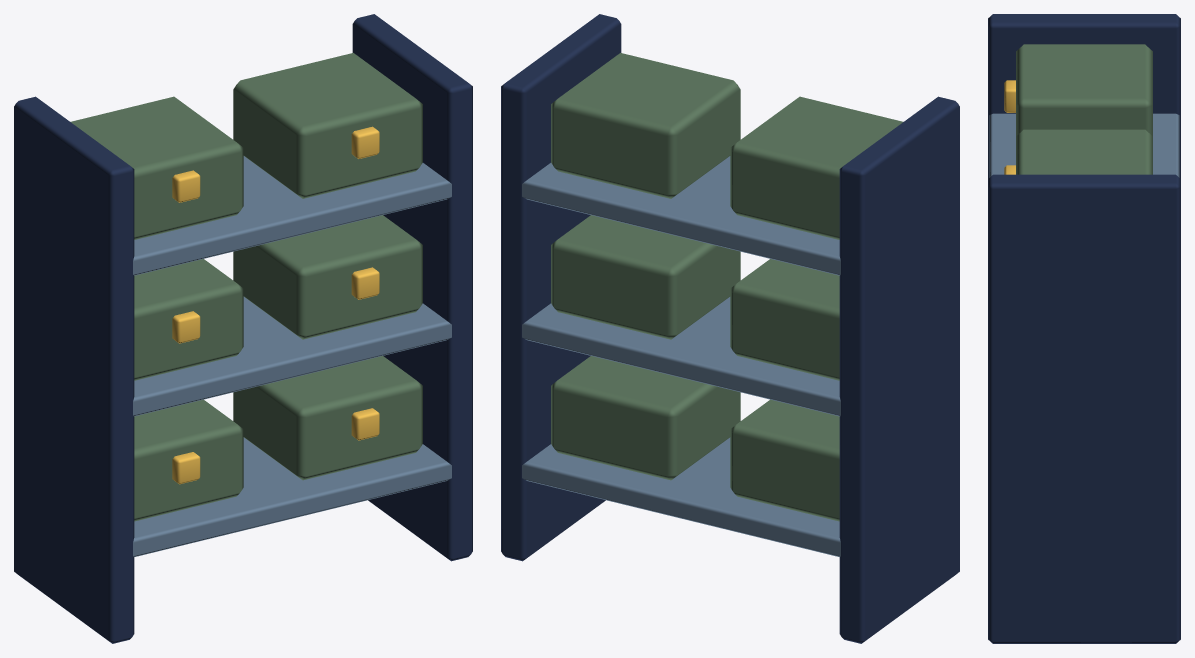
The model's file is optical_rack.glb.
3 views of the same model, side by side, from view 1: azimuth 30°, elevation 25°; view 2: azimuth 150°, elevation 25°; view 3: azimuth 270°, elevation 25° (orthographic). The views are drawn at different scales.
Parts seen in each view (by area): view 1: optical_rack; view 2: optical_rack; view 3: optical_rack.
Boxes of the visible parts, x1=… form: optical_rack: x1=14, y1=14, x2=472, y2=643; optical_rack: x1=501, y1=14, x2=959, y2=643; optical_rack: x1=988, y1=14, x2=1180, y2=643.
Bounding box in the file's own units: 1.47 × 1.82 × 0.69.
